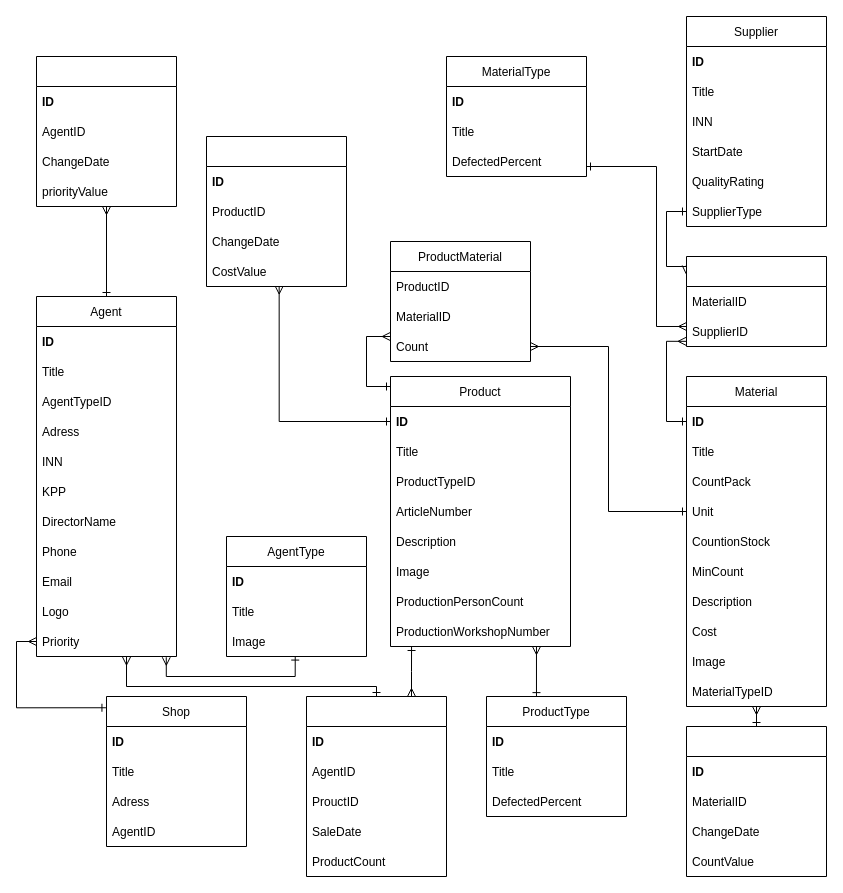
Some shapes in this 843 by 893 pixel diagram are drawn without their labels. The shapes that lost their labels are listed below. From the top down, each one's box as (x1, y1, x2, y2) in pixels, then its label:
(36, 56, 176, 206): AgentPriorityHistory
(206, 136, 346, 286): ProductCostHistory
(686, 256, 826, 346): MaterialSupplier
(306, 696, 446, 876): ProductSale
(686, 726, 826, 876): MaterialCountHistory
